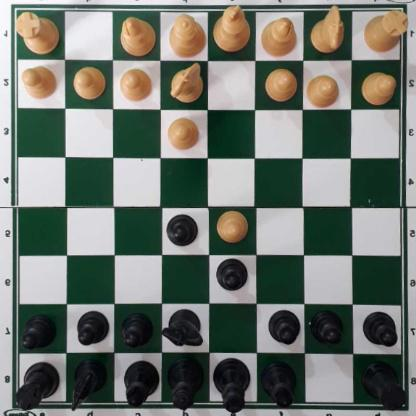black-bishop: (260, 361, 297, 412), (123, 362, 159, 409)
black-king: (211, 358, 251, 413)
black-knight: (71, 360, 106, 413), (161, 314, 203, 347)
black-pawn: (120, 312, 155, 350), (362, 312, 397, 349), (21, 315, 56, 351), (215, 259, 249, 295), (311, 313, 343, 349), (76, 312, 107, 349), (268, 311, 299, 345), (166, 216, 198, 248)
black-queen: (167, 360, 205, 411)
black-rook: (14, 364, 60, 411), (360, 363, 403, 410)
white-bishop: (261, 16, 296, 58), (119, 17, 154, 58)
white-king: (213, 6, 247, 55)
white-knight: (311, 5, 344, 55), (170, 63, 204, 105)
white-pawn: (19, 67, 59, 101), (166, 118, 200, 153), (118, 69, 152, 104), (361, 73, 397, 106), (72, 68, 105, 101), (263, 70, 296, 103), (307, 75, 339, 109), (215, 213, 249, 245)
white-queen: (165, 15, 208, 59)
white-rook: (14, 13, 59, 56), (362, 11, 407, 54)
